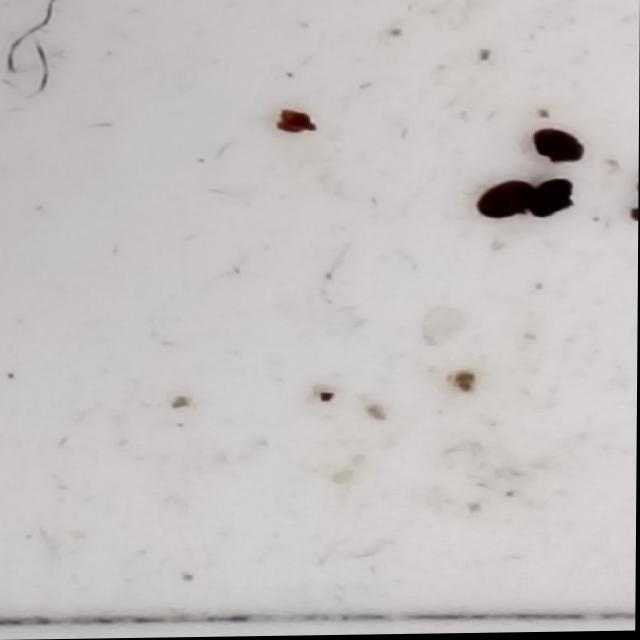varroa: (475, 184, 537, 223), (527, 181, 580, 225), (535, 126, 585, 167)
